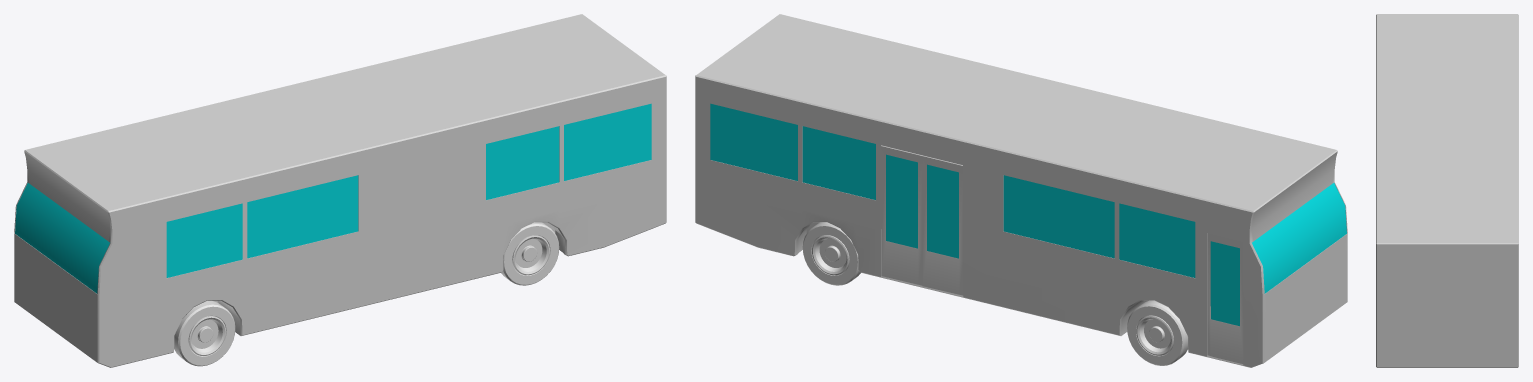
The model's file is Bus_Fin.fbx.
3 views of the same model, side by side, from view 1: azimuth 30°, elevation 25°; view 2: azimuth 150°, elevation 25°; view 3: azimuth 270°, elevation 25° (orthographic). The views are drawn at different scales.
Parts seen in each view (by area): view 1: Base, Others_Glass, Lob_Glase, Up_L, Down_2; view 2: Base, Others_Glass, Door_D_L, Door_D_R, Lob_Glase, Door_Glob, Up_R, Down_2; view 3: Base.
Part boxes in pixels (x1,y1,x2,y2): Base: (14,14,666,367); Others_Glass: (166,103,651,277); Lob_Glase: (15,183,109,293); Up_L: (174,300,235,366); Down_2: (501,222,559,285); Base: (695,14,1347,367); Others_Glass: (710,103,1195,277); Door_D_L: (881,145,922,285); Door_D_R: (922,155,963,295); Lob_Glase: (1252,183,1346,293); Door_Glob: (1207,233,1243,363); Up_R: (1127,300,1187,365); Down_2: (802,222,860,285); Base: (1376,14,1518,367).
Bounding box in the file's own units: 950 × 287 × 245.
